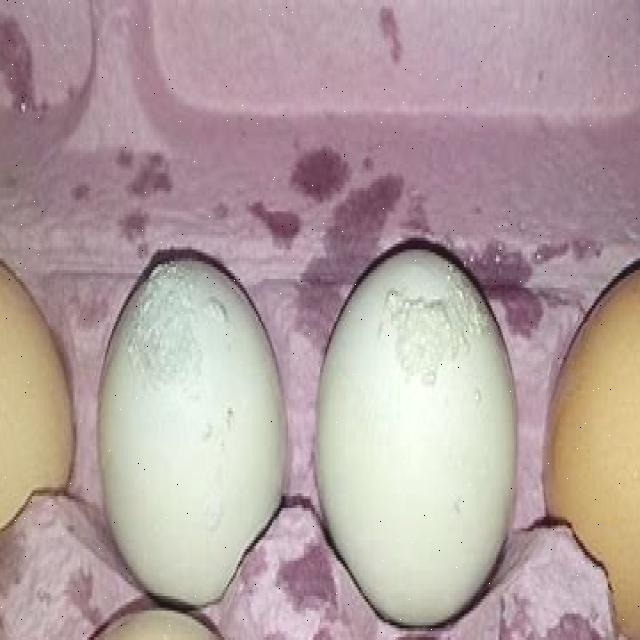Calcium Deposit Egg: (311, 236, 528, 637), (99, 239, 295, 603)
